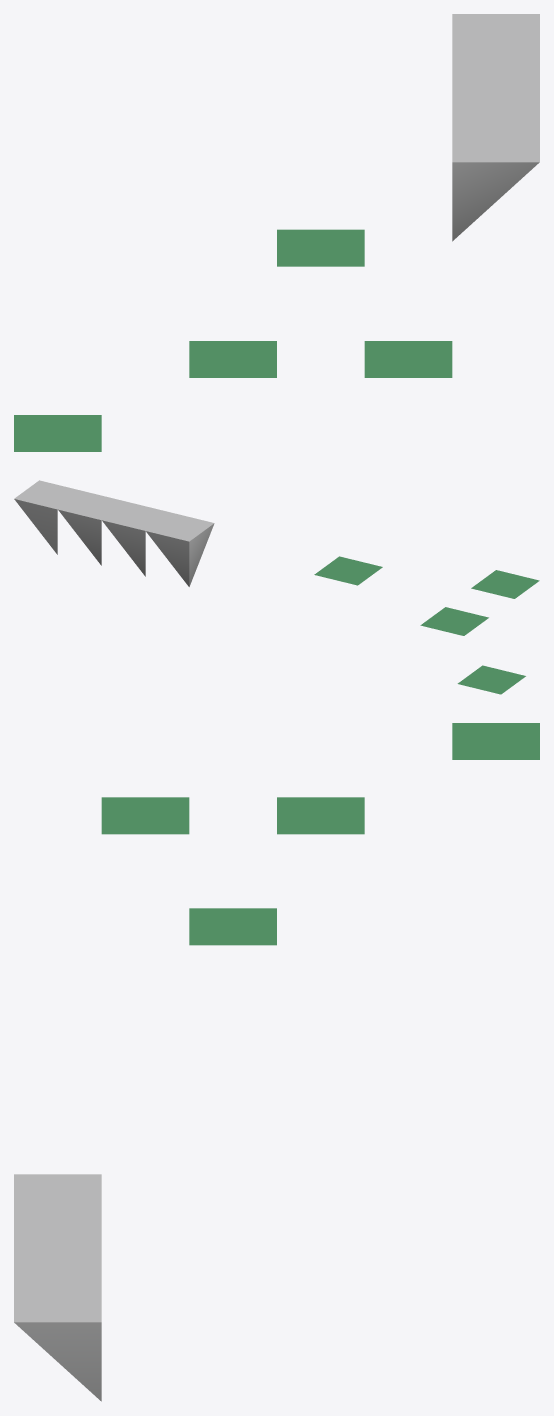
3 renders of one model, top to bottom at view 1: azimuth 90°, elevation 25°; view 2: azimuth 150°, elevation 25°; view 3: azimuth 270°, elevation 25°, orthographic. The views are drawn at different scales.
Visible parts, largest first — view 1: opaco, recorte; view 2: opaco, recorte; view 3: opaco, recorte.
Part boxes in pixels (x1,y1,x2,y2): opaco: [452, 14, 539, 241]; recorte: [14, 229, 452, 451]; opaco: [14, 480, 214, 586]; recorte: [314, 556, 539, 694]; opaco: [14, 1174, 101, 1401]; recorte: [101, 723, 539, 945].
Size of the model in its own units: 14 by 2.02 by 6.
